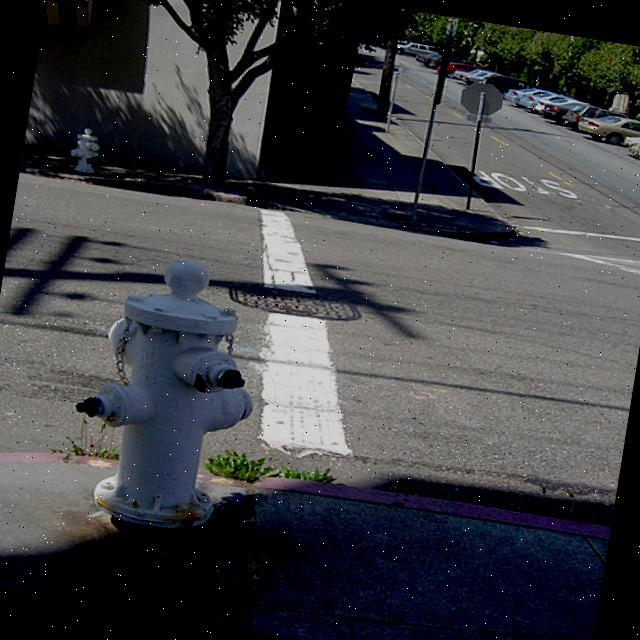fire_hydrant: (51, 242, 282, 540), (66, 124, 102, 174)
